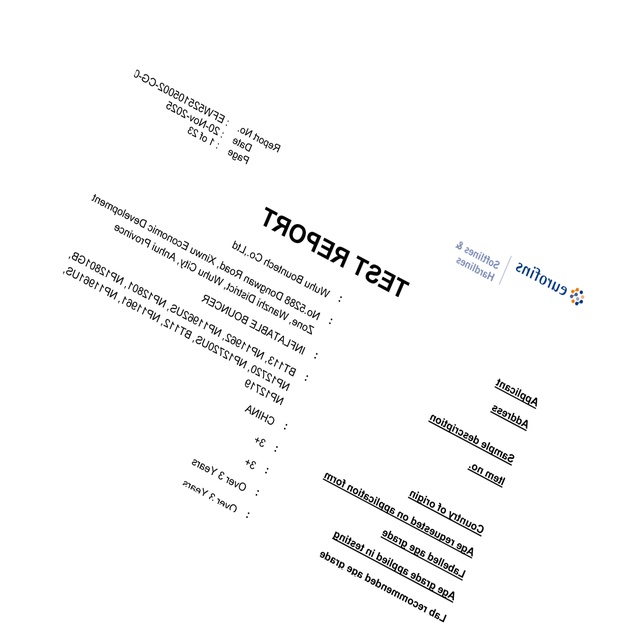eurofins: (513, 258, 588, 310)
